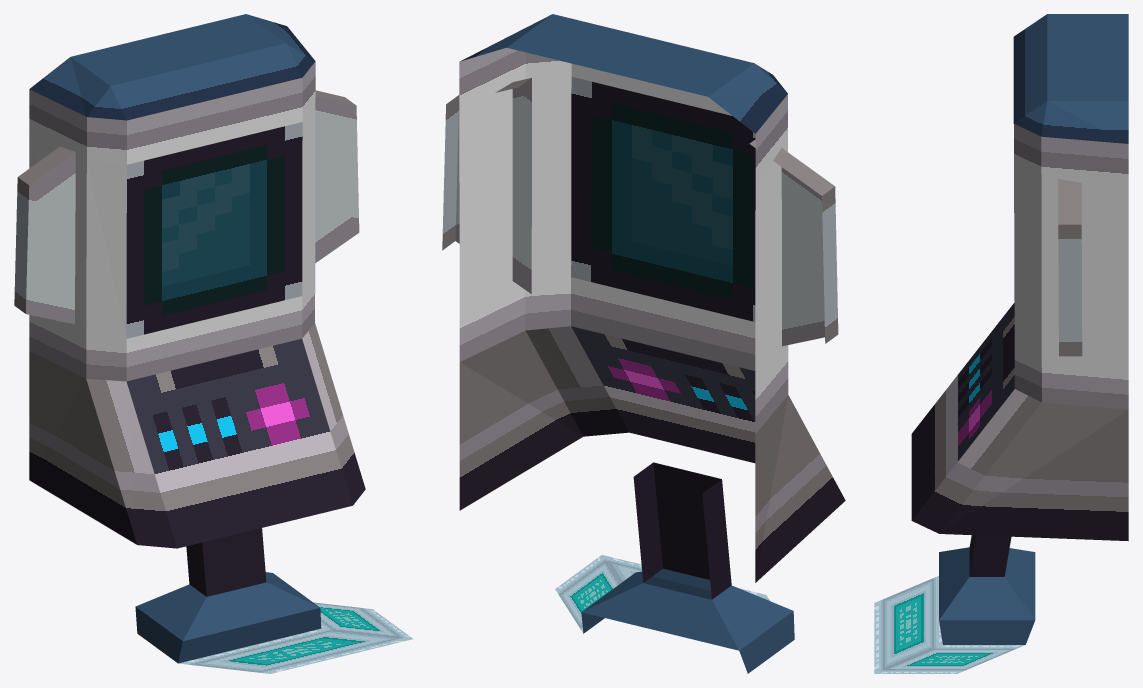
3 renders of one model, left to right at view 1: azimuth 30°, elevation 25°; view 2: azimuth 150°, elevation 25°; view 3: azimuth 270°, elevation 25°, orthographic. The views are drawn at different scales.
Visible parts, largest first — view 1: polygon0, polygon2, polygon1; view 2: polygon0, polygon2, polygon1; view 3: polygon0, polygon1.
Part boxes in pixels (x1=…): polygon0: x1=14, y1=14, x2=365, y2=663; polygon2: x1=126, y1=122, x2=302, y2=338; polygon1: x1=178, y1=602, x2=412, y2=673; polygon0: x1=442, y1=14, x2=845, y2=673; polygon2: x1=571, y1=77, x2=755, y2=321; polygon1: x1=555, y1=555, x2=769, y2=632; polygon0: x1=911, y1=14, x2=1128, y2=644; polygon1: x1=874, y1=576, x2=1024, y2=673.
Bounding box in the file's own units: 2.85 × 4.44 × 1.85.
